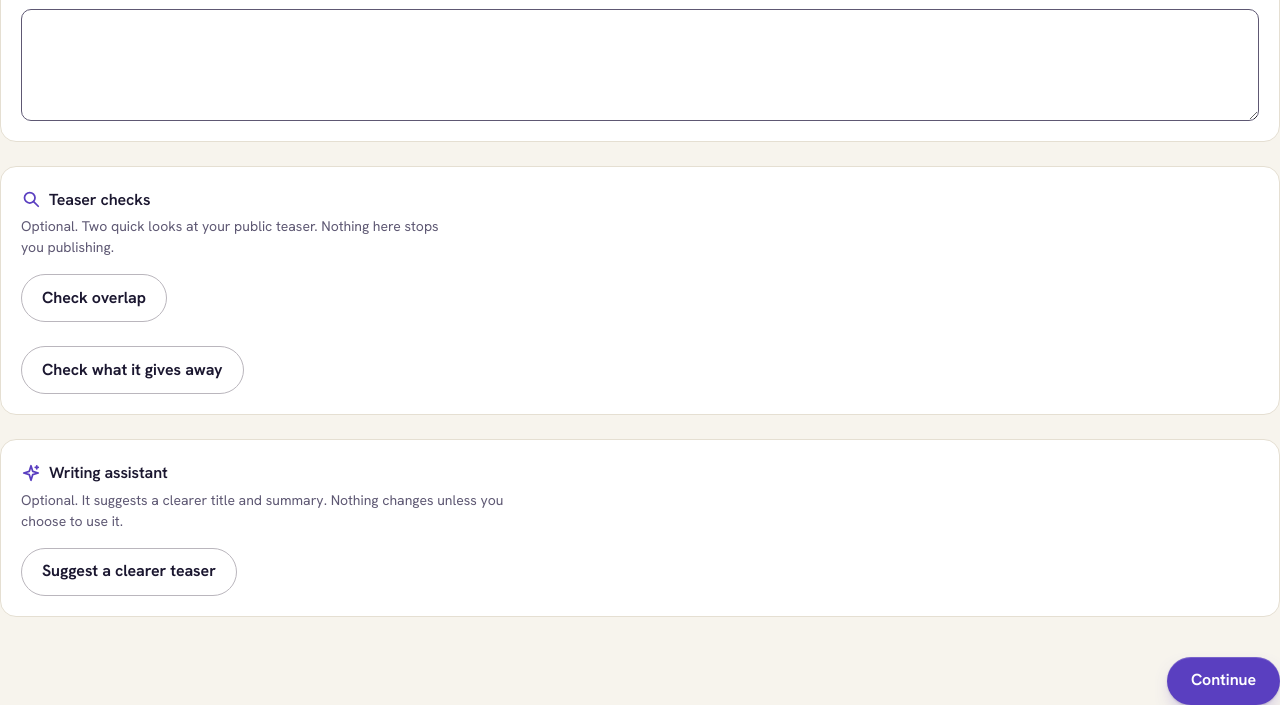
the consent dialog › opens again when the API says the opt-in ended (403 consent_required)
(page scrolled)
Click the button "Suggest a clearer teaser". click: (129, 572)
box: [21, 548, 237, 596]
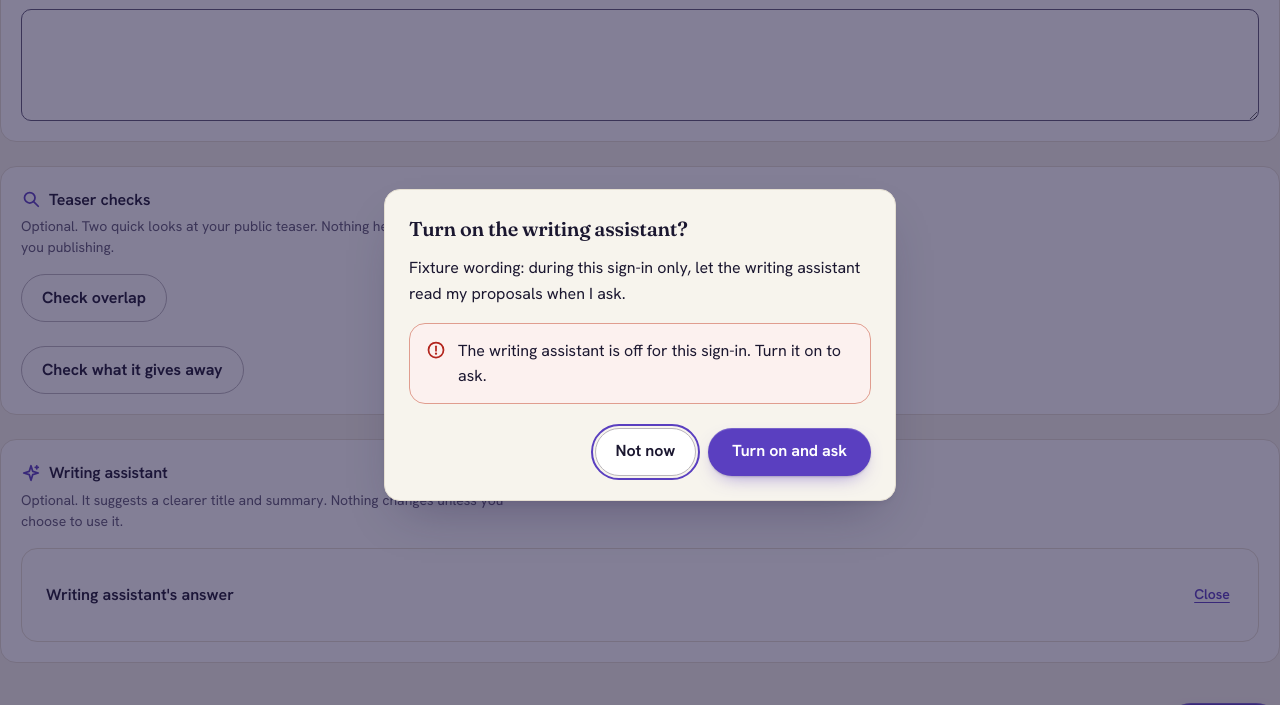
Check: the message reads "The writing assistant is off for this sign-in. Turn it on to ask.", box [458, 340, 841, 386]
